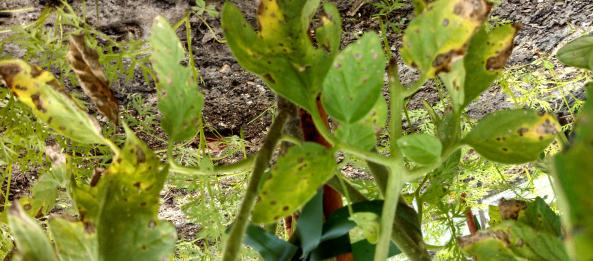Tomato Septoria leaf spot: (84, 126, 177, 255), (1, 61, 112, 146), (254, 136, 335, 225), (147, 17, 203, 143), (402, 0, 489, 80), (317, 31, 390, 124), (467, 98, 566, 166), (447, 24, 527, 106)
